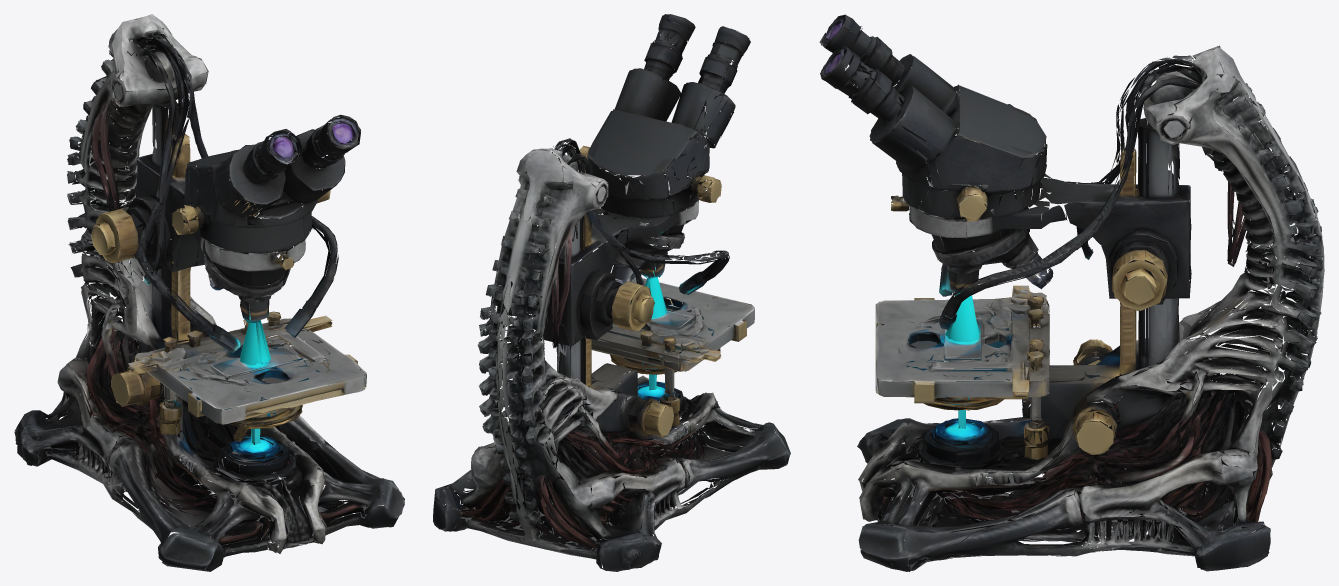
The model's file is vass_dissection_stereomicroscope.glb.
The picture shows the model from 3 angles, left to right: view 1: azimuth 30°, elevation 25°; view 2: azimuth 150°, elevation 25°; view 3: azimuth 270°, elevation 25°; orthographic projection. The views are drawn at different scales.
Visible parts, largest first — view 1: node_0; view 2: node_0; view 3: node_0.
Part boxes in pixels (x1=…): node_0: x1=14, y1=14, x2=404, y2=571; node_0: x1=433, y1=14, x2=790, y2=571; node_0: x1=819, y1=14, x2=1324, y2=571.
Size of the model in its own units: 0.5191 by 0.8918 by 0.8552.
1 material, 1 textured.
